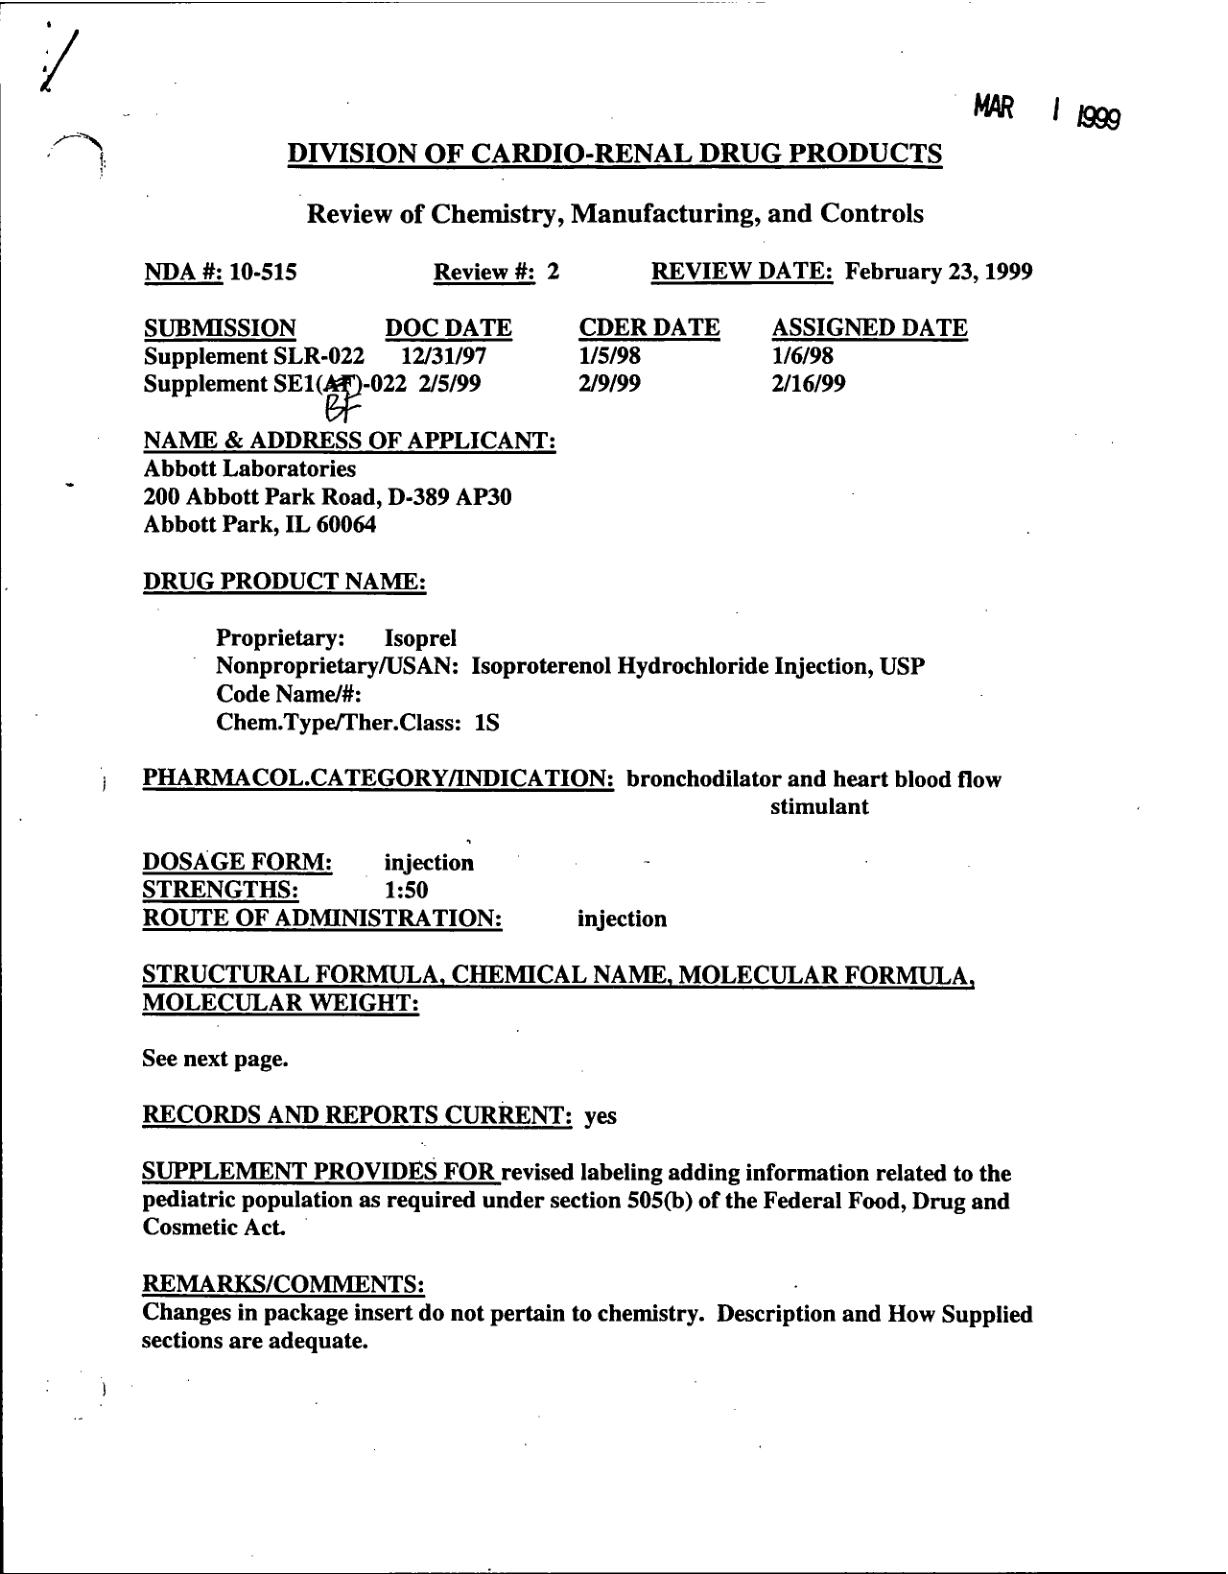nolines: (141, 314, 971, 399)
